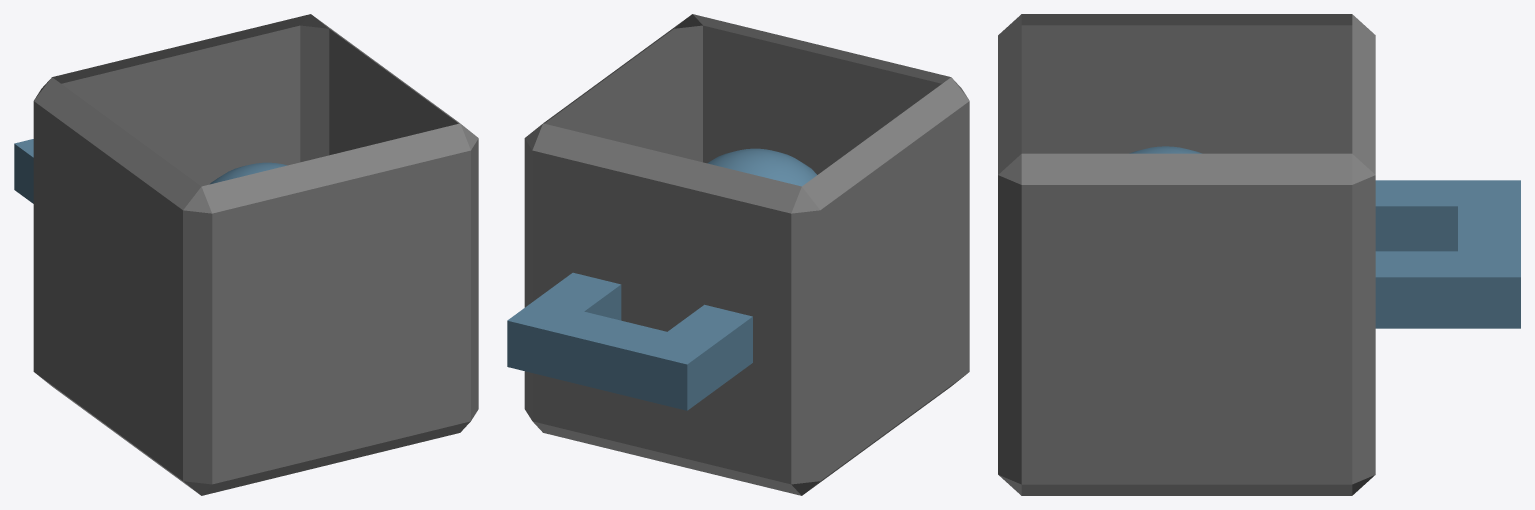
Rendered from PointlessBallThrower.fbx.
3 views of the same model, side by side, from view 1: azimuth 30°, elevation 25°; view 2: azimuth 150°, elevation 25°; view 3: azimuth 270°, elevation 25° (orthographic). The views are drawn at different scales.
Visible parts, largest first — view 1: BomBot_Body, Ball; view 2: BomBot_Body, Ball; view 3: BomBot_Body.
Boxes of the visible parts, x1,y1,x2,y2 form: BomBot_Body: [14, 14, 478, 495]; Ball: [209, 162, 287, 184]; BomBot_Body: [507, 14, 969, 495]; Ball: [707, 148, 816, 186]; BomBot_Body: [998, 14, 1520, 495].
Size of the model in its own units: 40 by 40 by 55.37.
